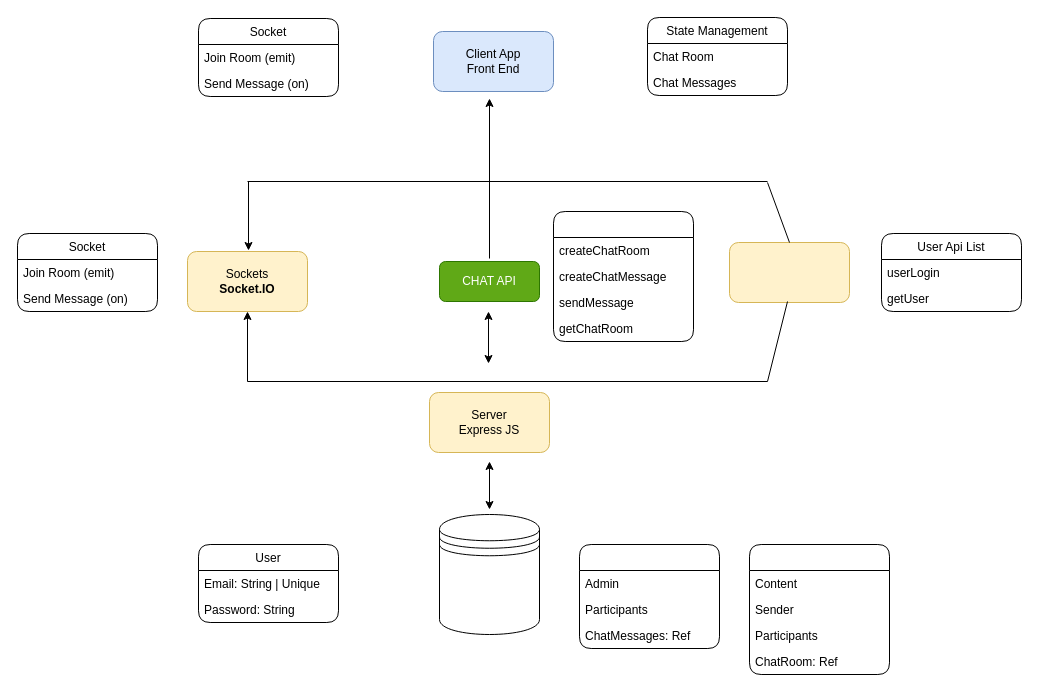
This 1039x695 diagram has some shape labels left out. The shapes that lost their labels are listed below. From the top down, each one's box as (x1, y1, x2, y2) in pixels, then its label:
(552, 210, 694, 342): ChatApiList
(728, 242, 850, 302): API User IdeJualan
(438, 514, 540, 634): MySQL
(578, 544, 720, 648): ChatRoom
(748, 544, 890, 674): ChatMessage
